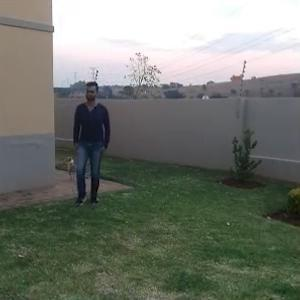follow: (67, 78, 108, 210)
